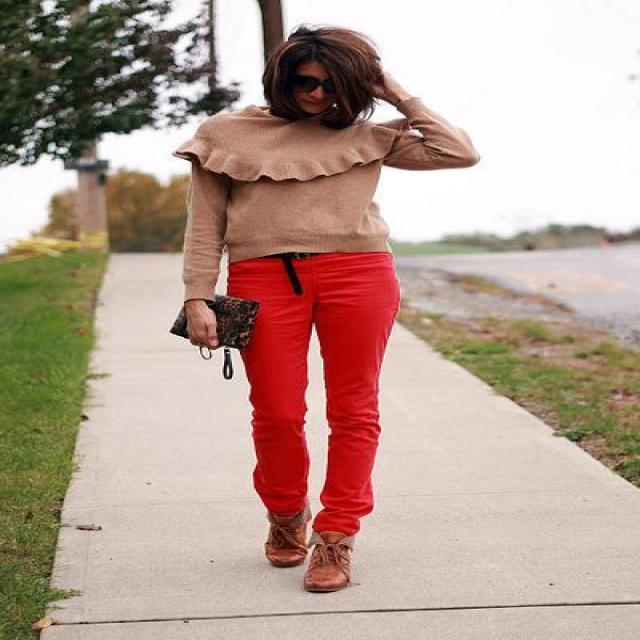bag: (172, 286, 258, 373)
jacket: (156, 98, 478, 300)
pants: (228, 252, 398, 544)
shoe: (266, 508, 352, 593)
